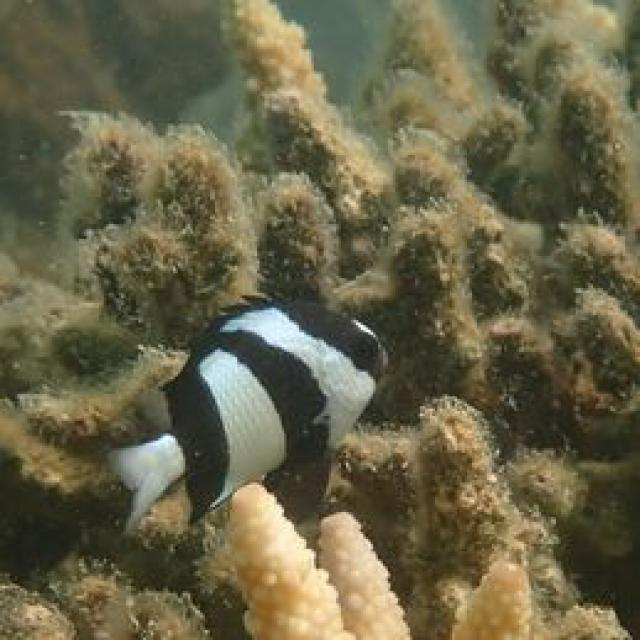Three_striped DasmselFish: (93, 297, 378, 529)
